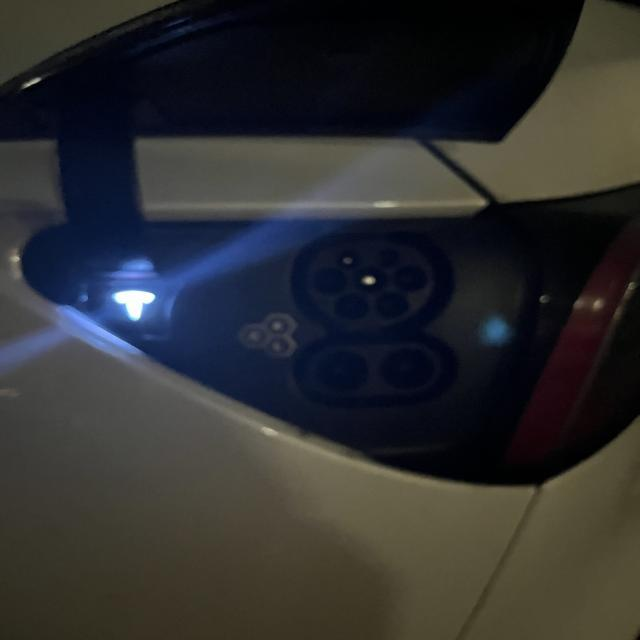inlet: (304, 243, 434, 332)
inlet-above-left: (334, 248, 361, 269)
inlet-above-right: (375, 248, 400, 268)
inlet-below-left: (332, 294, 368, 320)
inlet-below-right: (373, 292, 409, 317)
inlet-center: (351, 266, 387, 292)
inlet-center-left: (311, 267, 347, 295)
inlet-center-right: (393, 265, 426, 291)
